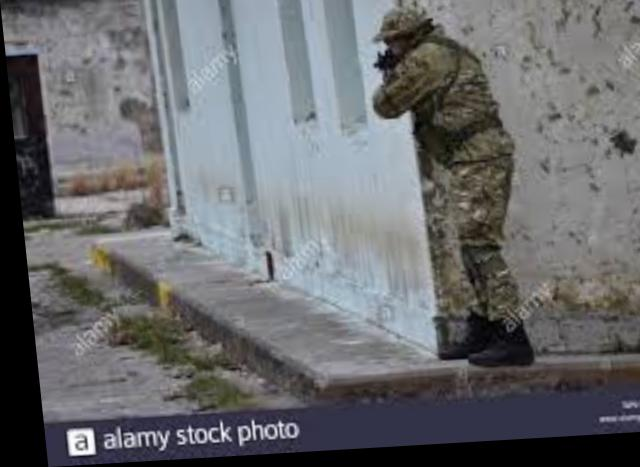other: (373, 13, 527, 362)
